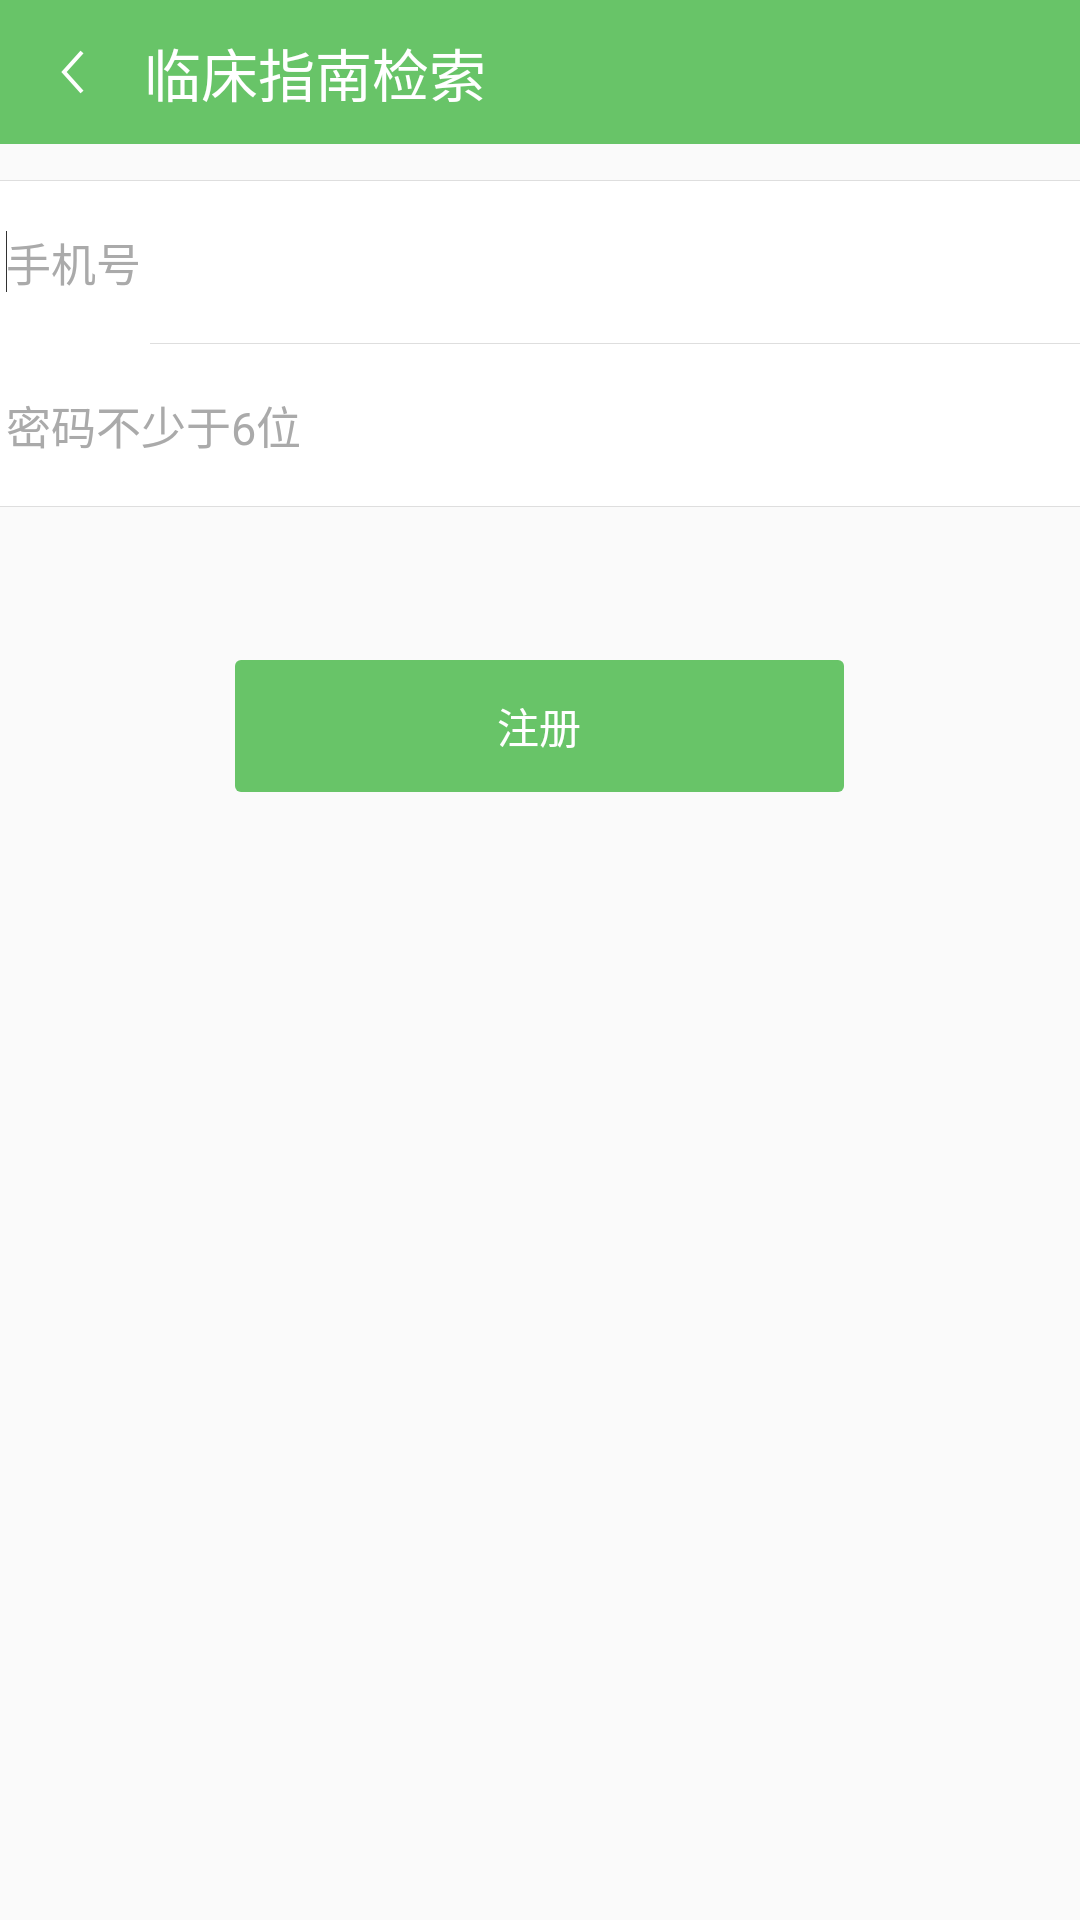

Icon bounding boxes for this 1080x1920 phone screenshot, format (x1, y1, x2, y2):
back: (61, 51, 84, 93)
